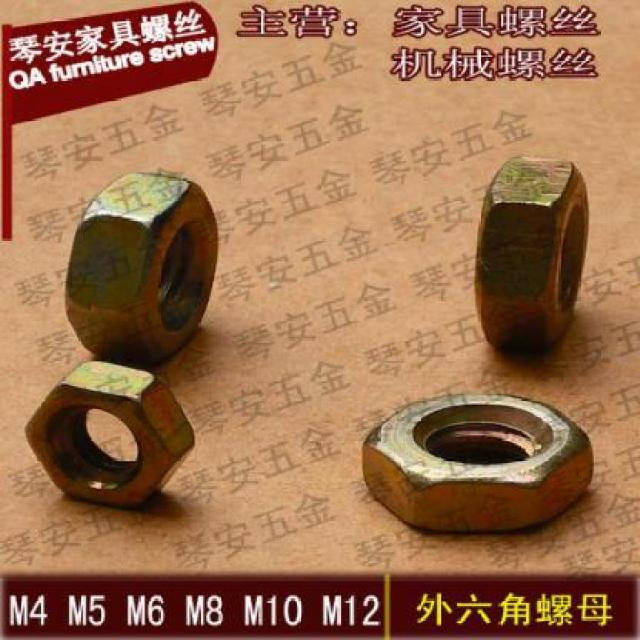Nut: (362, 390, 594, 536), (64, 168, 220, 368), (23, 357, 195, 512), (471, 152, 591, 360)
